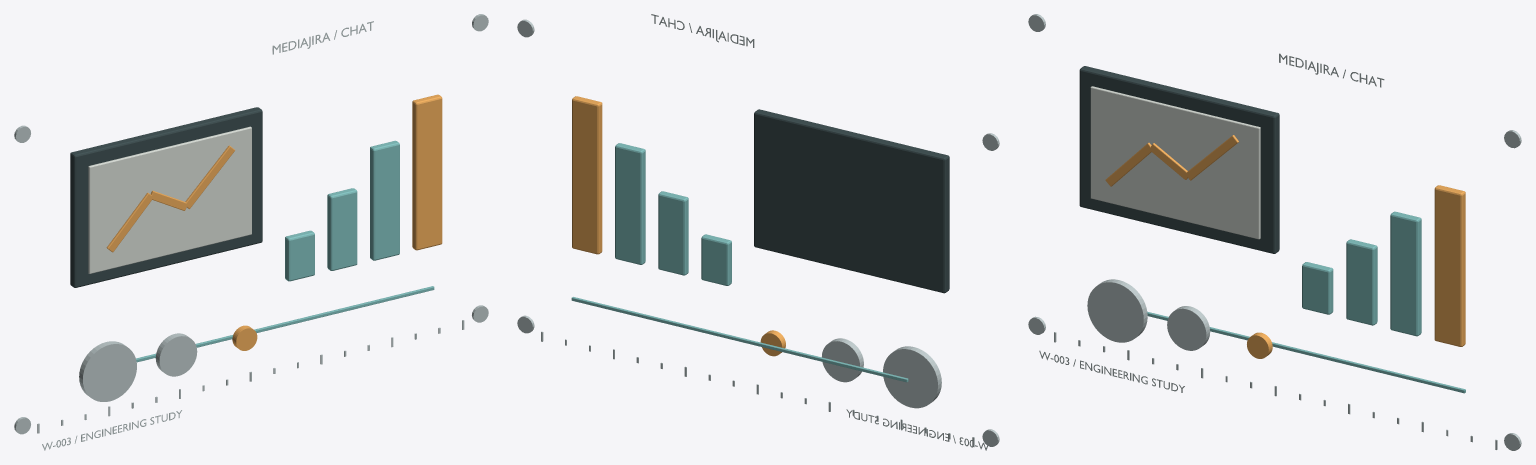
File: mediajira.glb
The picture shows the model from 3 angles, left to right: view 1: azimuth 30°, elevation 25°; view 2: azimuth 150°, elevation 25°; view 3: azimuth 330°, elevation 25°; orthographic projection. The views are drawn at different scales.
Parts seen in each view (by area): view 1: optical-core__Project_Ceramic.001, optical-core__Project_Graphite.002, optical-core__Project_Trace, optical-core__Project_Amber.002, optical-core__Project_Silver.002, optical-lenses__Project_Silver.002, optical-lenses__Project_Amber.001, optical-lenses__Project_Trace.002; view 2: optical-core__Project_Graphite.002, optical-core__Project_Trace, optical-core__Project_Amber.002, optical-core__Project_Silver.002, optical-lenses__Project_Silver.002, optical-lenses__Project_Trace.002; view 3: optical-core__Project_Ceramic.001, optical-core__Project_Graphite.002, optical-core__Project_Trace, optical-core__Project_Amber.002, optical-core__Project_Silver.002, optical-lenses__Project_Silver.002, optical-lenses__Project_Amber.001, optical-lenses__Project_Trace.002.
Boxes of the visible parts, x1=… form: optical-core__Project_Ceramic.001: x1=88, y1=126, x2=251, y2=273; optical-core__Project_Graphite.002: x1=70, y1=107, x2=262, y2=287; optical-core__Project_Trace: x1=285, y1=140, x2=399, y2=281; optical-core__Project_Amber.002: x1=232, y1=94, x2=442, y2=350; optical-core__Project_Silver.002: x1=79, y1=333, x2=197, y2=401; optical-lenses__Project_Silver.002: x1=14, y1=14, x2=488, y2=450; optical-lenses__Project_Amber.001: x1=106, y1=145, x2=234, y2=252; optical-lenses__Project_Trace.002: x1=136, y1=286, x2=434, y2=362; optical-core__Project_Graphite.002: x1=754, y1=109, x2=949, y2=293; optical-core__Project_Trace: x1=615, y1=143, x2=731, y2=285; optical-core__Project_Amber.002: x1=572, y1=96, x2=785, y2=356; optical-core__Project_Silver.002: x1=822, y1=338, x2=941, y2=408; optical-lenses__Project_Silver.002: x1=517, y1=14, x2=999, y2=450; optical-lenses__Project_Trace.002: x1=571, y1=297, x2=908, y2=382; optical-core__Project_Ceramic.001: x1=1090, y1=86, x2=1260, y2=239; optical-core__Project_Graphite.002: x1=1079, y1=66, x2=1279, y2=253; optical-core__Project_Trace: x1=1302, y1=211, x2=1421, y2=336; optical-core__Project_Amber.002: x1=1247, y1=185, x2=1465, y2=358; optical-core__Project_Silver.002: x1=1087, y1=279, x2=1210, y2=350; optical-lenses__Project_Silver.002: x1=1028, y1=14, x2=1521, y2=450; optical-lenses__Project_Amber.001: x1=1105, y1=135, x2=1238, y2=186; optical-lenses__Project_Trace.002: x1=1147, y1=311, x2=1465, y2=393.
Size of the model in its own units: 4.01 by 2.83 by 0.162.
